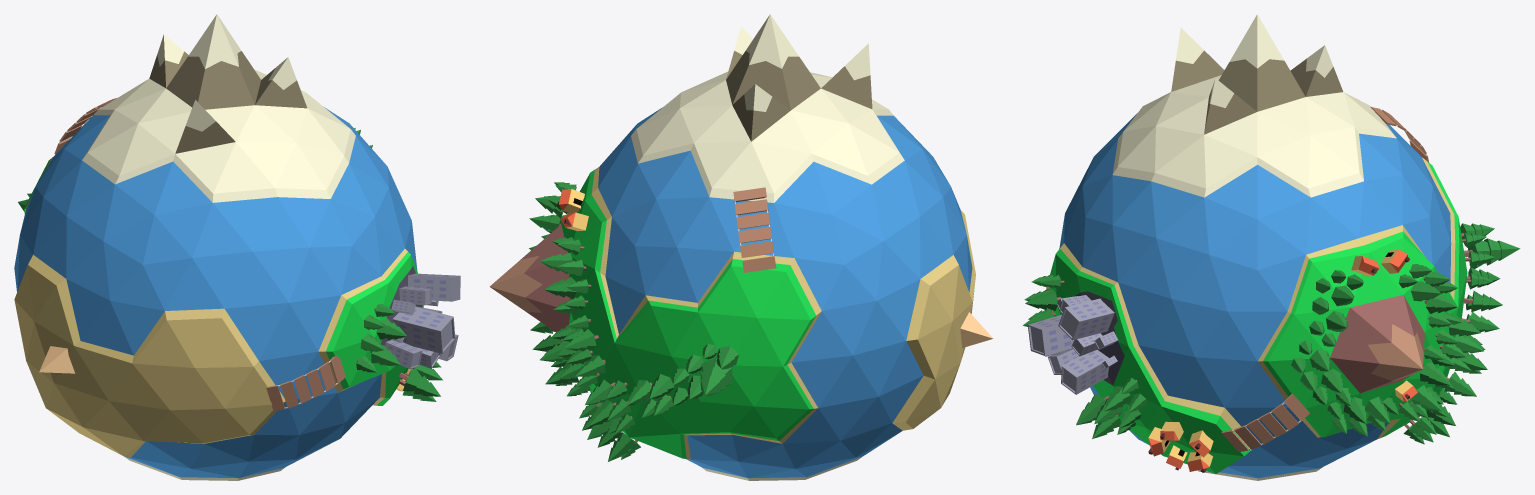
3 views of the same model, side by side, from view 1: azimuth 30°, elevation 25°; view 2: azimuth 150°, elevation 25°; view 3: azimuth 270°, elevation 25° (orthographic).
Parts seen in each view (by area): view 1: Planet, Building, Cube.002, Building.004, Cone.002, Building.007, Cylinder.007, Building.005, Cube; view 2: Planet, Cube, Cone.236, Cone.002; view 3: Planet, Cube.001, Building.004, Building.001, Building, Cone.236, Cube.
Boxes of the visible parts, <box> form: Planet: <box>14,14,423,480</box>; Building: <box>392,307,455,353</box>; Cube.002: <box>266,355,345,411</box>; Building.004: <box>408,273,460,301</box>; Cone.002: <box>39,346,75,373</box>; Building.007: <box>385,340,422,369</box>; Cylinder.007: <box>399,368,440,396</box>; Building.005: <box>399,286,431,305</box>; Cube: <box>54,98,116,154</box>; Planet: <box>489,14,975,480</box>; Cube: <box>733,187,776,272</box>; Cone.236: <box>700,357,732,395</box>; Cone.002: <box>960,312,993,347</box>; Planet: <box>1049,14,1467,480</box>; Cube.001: <box>1221,393,1309,451</box>; Building.004: <box>1058,298,1114,340</box>; Building.001: <box>1061,349,1109,394</box>; Building: <box>1027,315,1073,355</box>; Cone.236: <box>1464,238,1520,268</box>; Cube: <box>1370,107,1428,162</box>.
Size of the model in its own units: 231 by 245 by 246.
